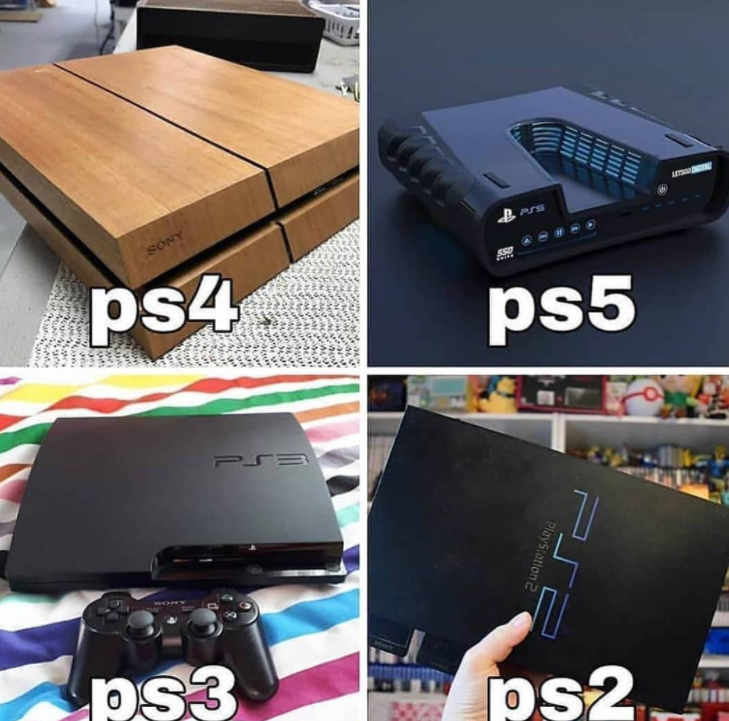gamingconsole: (67, 589, 280, 702)
